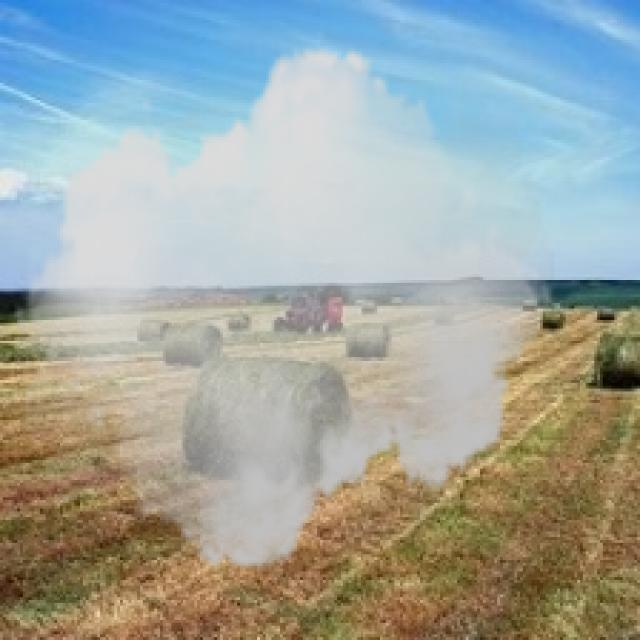smoke: (14, 26, 554, 591)
